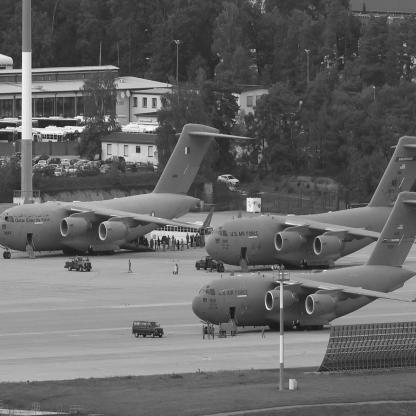C17: (1, 124, 257, 261), (193, 192, 416, 336), (206, 136, 416, 275)
